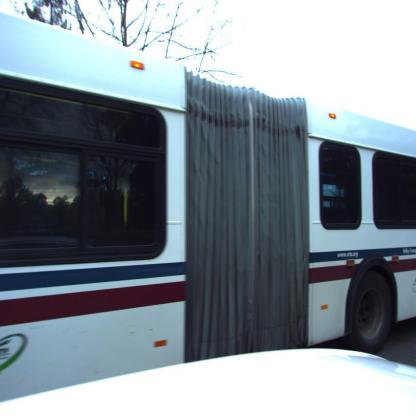bus: (0, 18, 416, 409)
